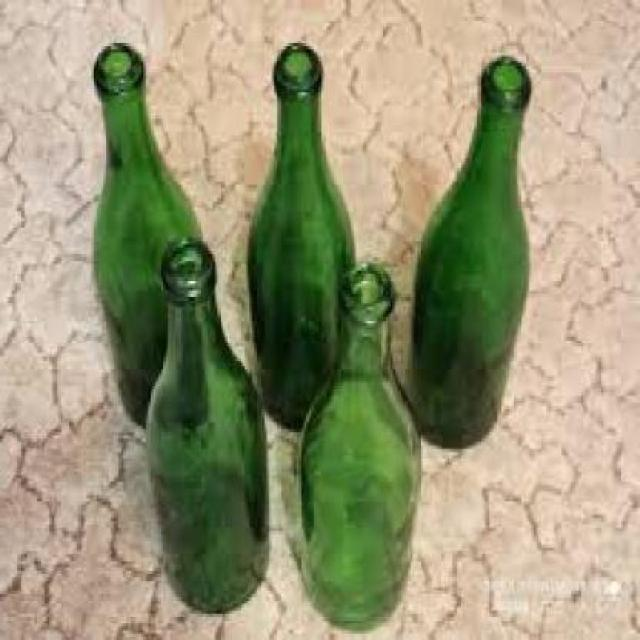GLASS: (411, 57, 534, 446), (148, 235, 268, 610), (300, 258, 422, 624), (94, 39, 204, 426), (250, 39, 358, 428)
